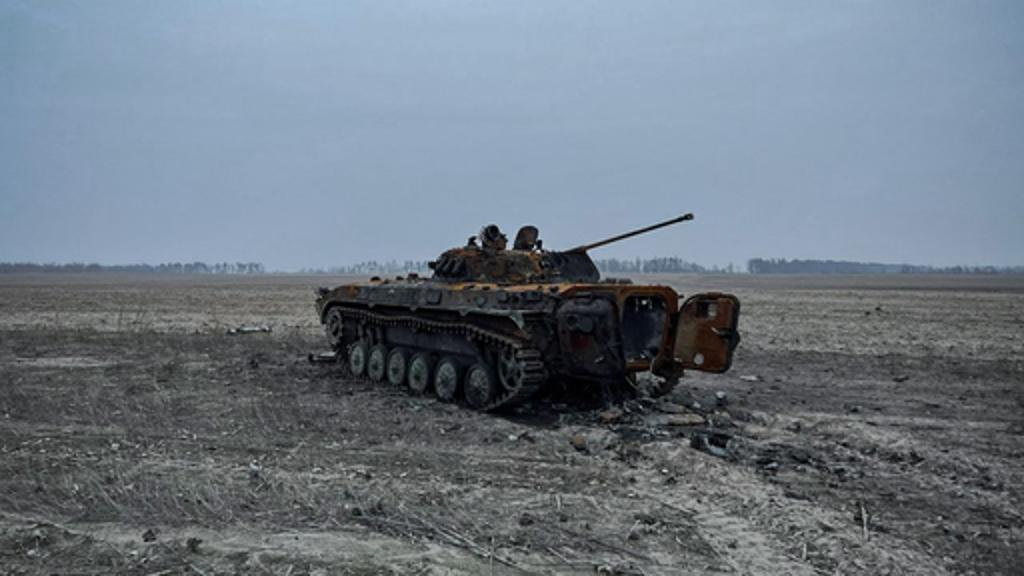APC-IFV: (296, 202, 728, 422)
